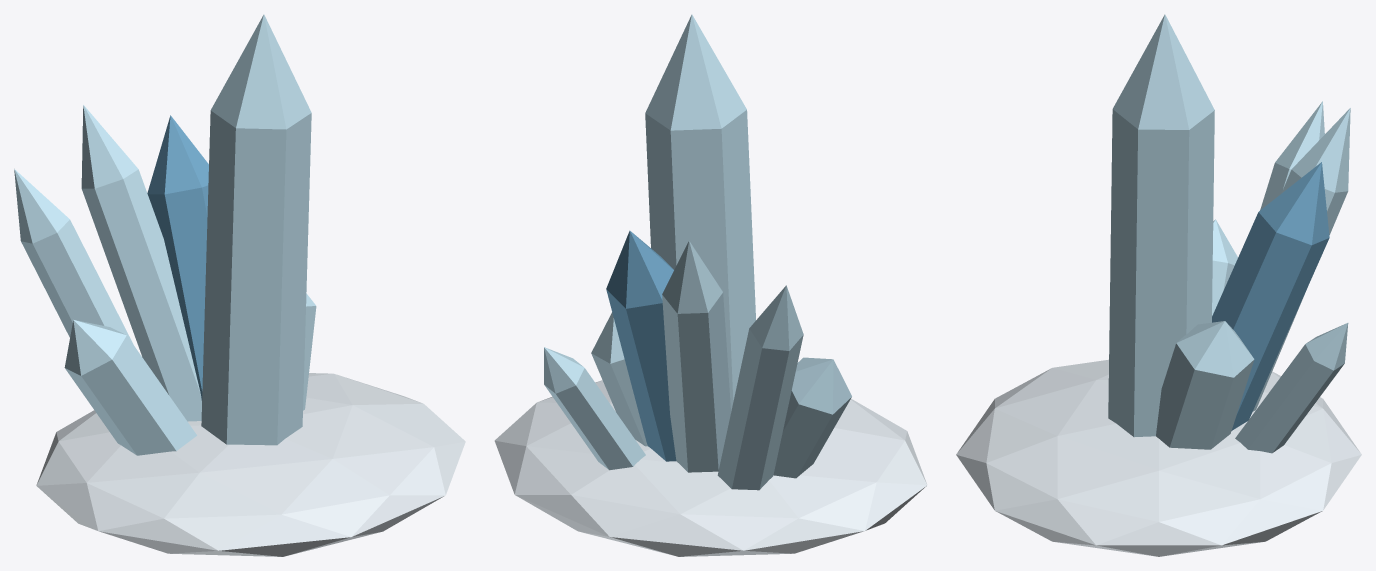
File: runtime.glb
3 views of the same model, side by side, from view 1: azimuth 30°, elevation 25°; view 2: azimuth 150°, elevation 25°; view 3: azimuth 270°, elevation 25° (orthographic).
Parts seen in each view (by area): view 1: frozen_crystal_ice_nocol, frozen_crystal_snow_noshadow_nocol, frozen_crystal_deep_nocol; view 2: frozen_crystal_ice_nocol, frozen_crystal_snow_noshadow_nocol, frozen_crystal_deep_nocol; view 3: frozen_crystal_ice_nocol, frozen_crystal_snow_noshadow_nocol, frozen_crystal_deep_nocol.
Part boxes in pixels (x1,y1,x2,y2): frozen_crystal_ice_nocol: (14,14,316,455); frozen_crystal_snow_noshadow_nocol: (36,373,465,556); frozen_crystal_deep_nocol: (147,115,208,400); frozen_crystal_ice_nocol: (544,14,851,490); frozen_crystal_snow_noshadow_nocol: (494,380,927,556); frozen_crystal_deep_nocol: (606,230,676,461); frozen_crystal_ice_nocol: (1108,14,1350,453); frozen_crystal_snow_noshadow_nocol: (956,359,1361,556); frozen_crystal_deep_nocol: (1212,162,1329,430).
Size of the model in its own units: 3.1 by 3.89 by 2.93.
